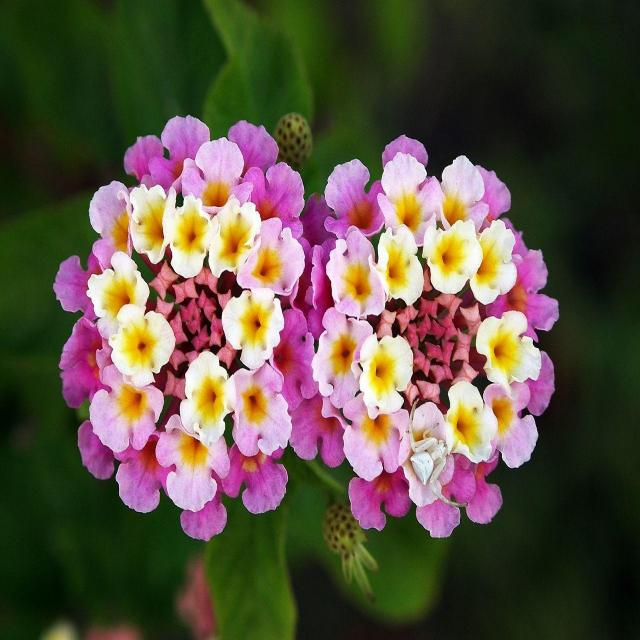organic waste: (42, 116, 348, 543), (283, 130, 573, 544)
